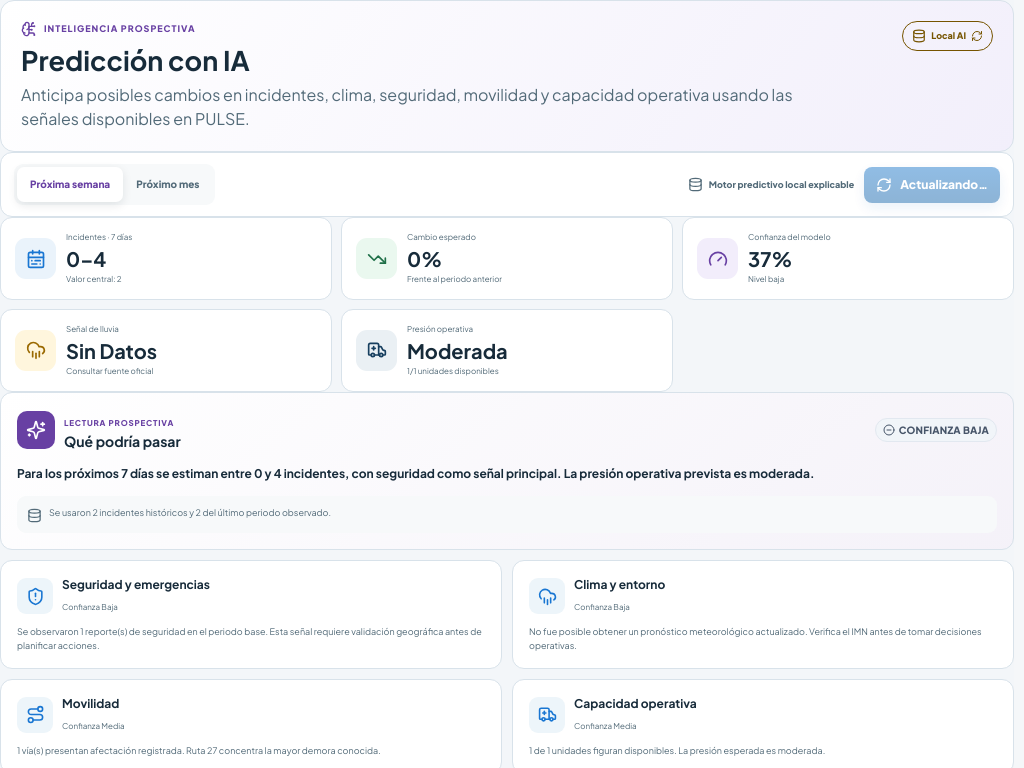
Test: AI prediction admin page › switches between weekly and monthly horizons
Click the button "Próximo mes". click: (168,185)
box: left=123, top=167, right=212, bottom=202
(page scrolled)
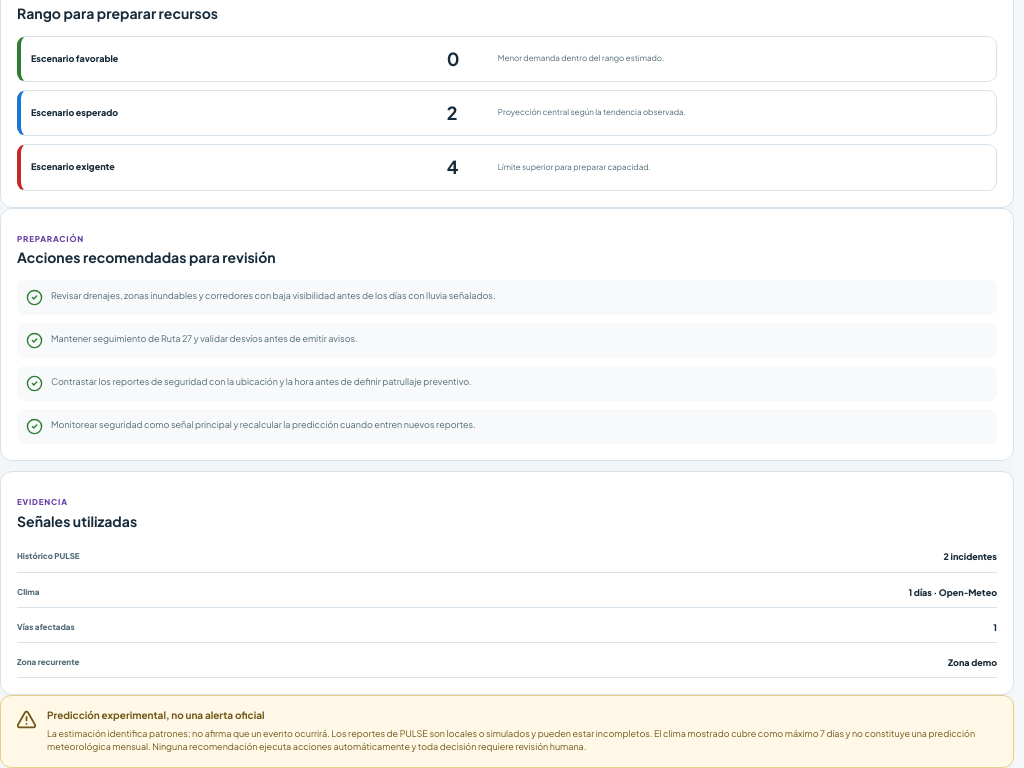
Now the text "no constituye una predicción meteorológica mensual" is shown, box left=47, top=728, right=975, bottom=752
